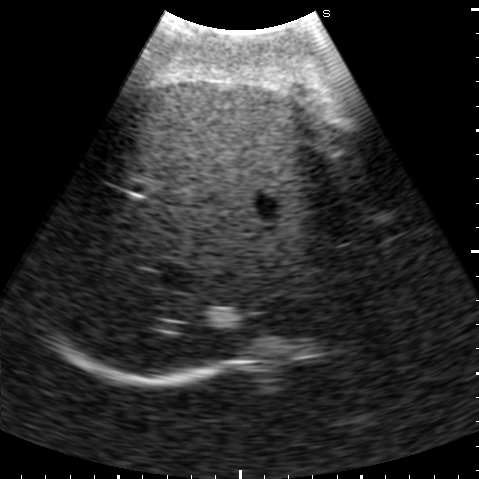S5: (112, 81, 332, 205)
S7: (30, 172, 154, 325)
S8: (81, 169, 372, 375)
Tumor: (204, 307, 241, 329)
